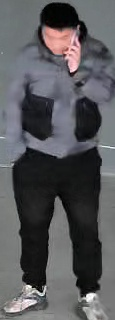phone: (35, 0, 114, 109)
